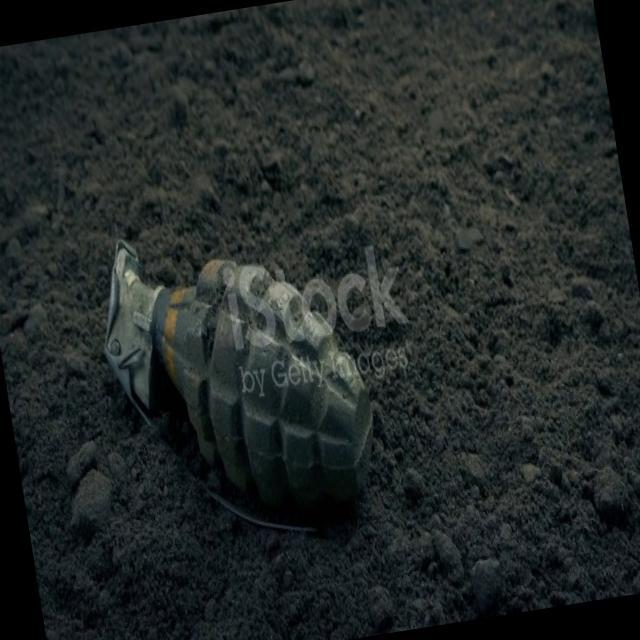grenade: (86, 206, 399, 570)
